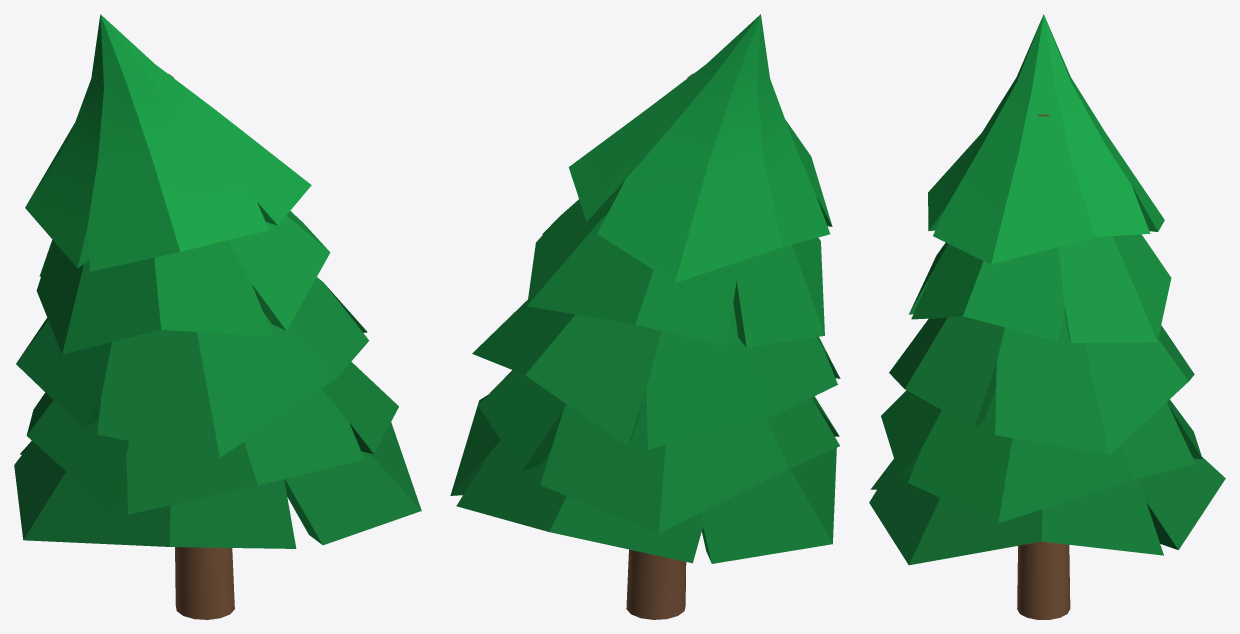
File: Spruce_DarkGreen_Thick_2.fbx
The picture shows the model from 3 angles, left to right: view 1: azimuth 30°, elevation 25°; view 2: azimuth 150°, elevation 25°; view 3: azimuth 270°, elevation 25°; orthographic projection. The views are drawn at different scales.
Visible parts, largest first — view 1: Cylinder.058, Cylinder.057, Cylinder.054, Cylinder.056, Cylinder.055, Cylinder.053; view 2: Cylinder.058, Cylinder.057, Cylinder.055, Cylinder.056, Cylinder.054, Cylinder.053; view 3: Cylinder.058, Cylinder.057, Cylinder.055, Cylinder.056, Cylinder.054, Cylinder.053.
Part boxes in pixels (box(x1,y1,x2,y2)): Cylinder.058: box(25, 14, 311, 271); Cylinder.057: box(16, 277, 369, 457); Cylinder.054: box(14, 422, 421, 548); Cylinder.056: box(36, 211, 330, 354); Cylinder.055: box(26, 361, 398, 514); Cylinder.053: box(168, 73, 234, 619); Cylinder.058: box(568, 14, 832, 282); Cylinder.057: box(472, 300, 840, 449); Cylinder.055: box(478, 370, 839, 533); Cylinder.056: box(527, 199, 824, 347); Cylinder.054: box(450, 394, 836, 563); Cylinder.053: box(626, 73, 693, 619); Cylinder.058: box(928, 14, 1164, 264); Cylinder.057: box(889, 310, 1194, 455); Cylinder.055: box(881, 386, 1202, 523); Cylinder.056: box(909, 234, 1171, 343); Cylinder.054: box(869, 457, 1225, 565); Cylinder.053: box(1017, 114, 1070, 619).
Size of the model in its own units: 343 by 568 by 334.
